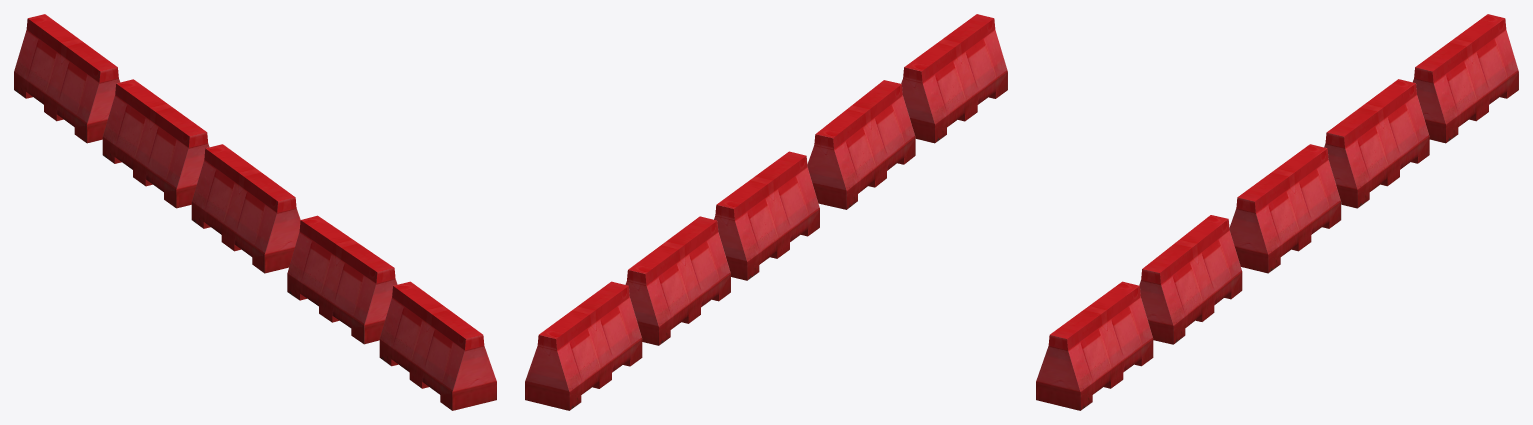
File: Barrier-Red-five.fbx
3 renders of one model, left to right at view 1: azimuth 30°, elevation 25°; view 2: azimuth 150°, elevation 25°; view 3: azimuth 330°, elevation 25°, orthographic.
Parts seen in each view (by area): view 1: Barrier; view 2: Barrier; view 3: Barrier.
Boxes of the visible parts, left/top/right/bottom form: Barrier: left=14, top=14, right=496, bottom=410; Barrier: left=525, top=14, right=1007, bottom=410; Barrier: left=1036, top=14, right=1518, bottom=410.
Bounding box in the file's own units: 76.85 × 104 × 1204.
